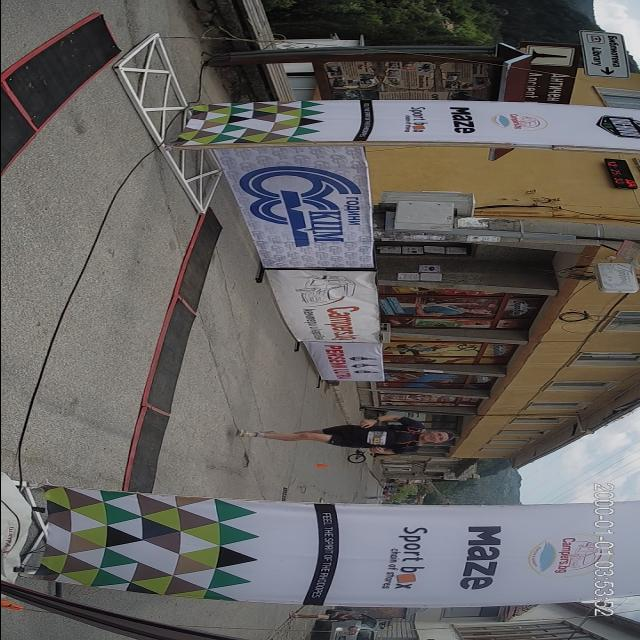runner: (208, 410, 476, 464)
